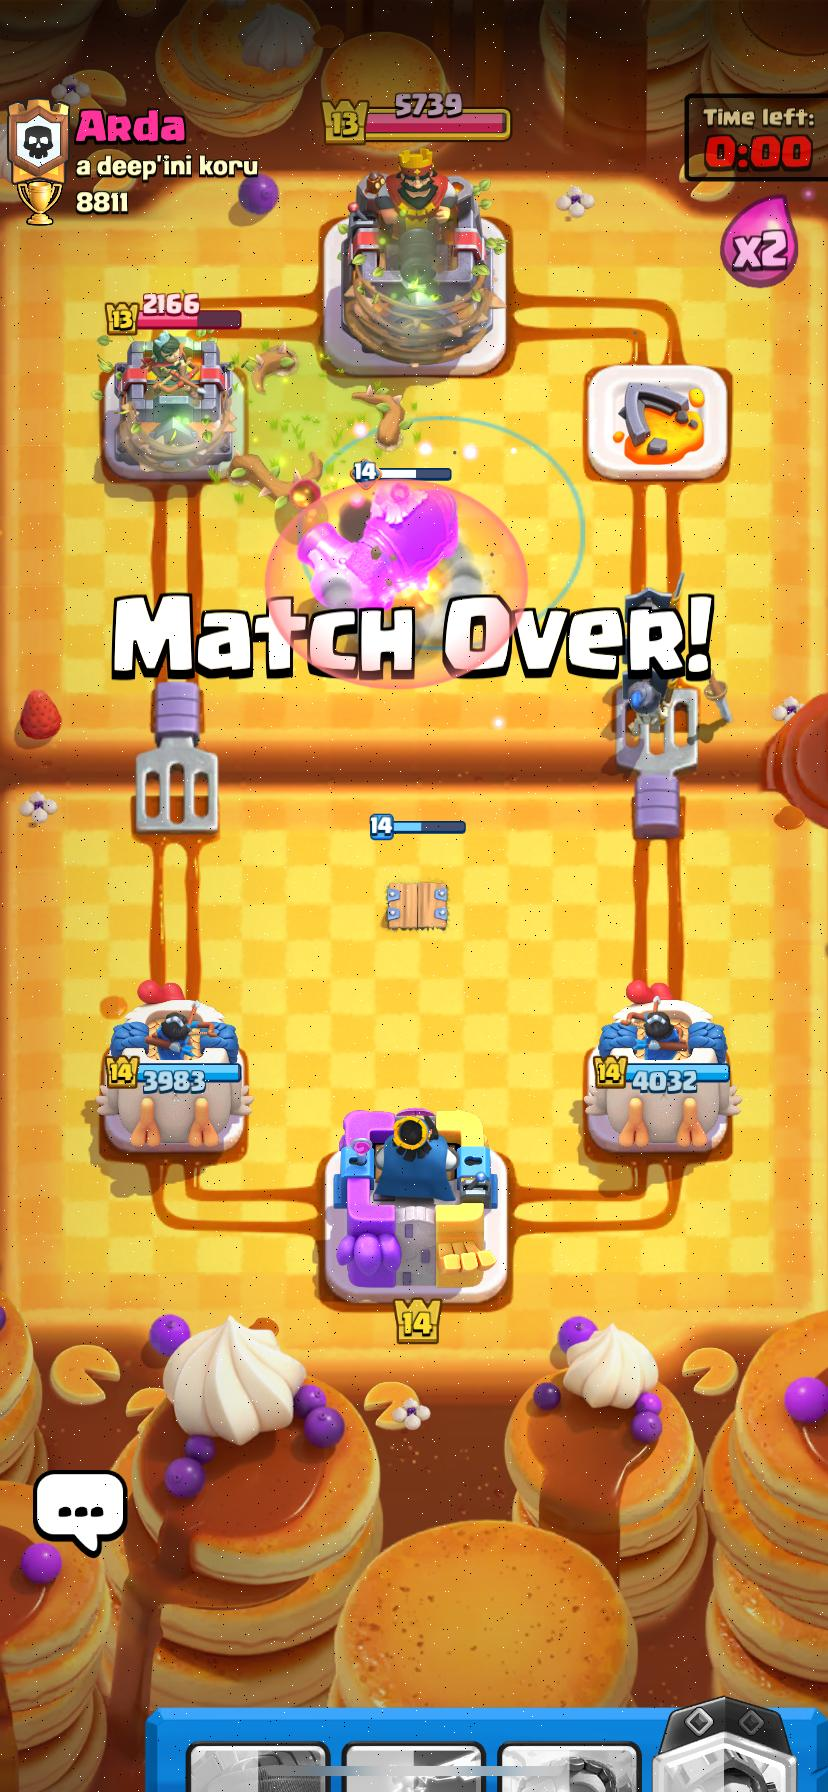EKingTower: (324, 149, 505, 374)
EnemyPrincessTower: (104, 331, 241, 480)
OEVRoyalG: (297, 481, 457, 606)
OGuard: (623, 674, 669, 741)
OTesla: (387, 883, 447, 930)
OwnKingTower: (324, 1109, 505, 1303)
OwnPrincessTower: (584, 982, 740, 1154), (97, 999, 250, 1151)
TowerDown: (584, 362, 730, 482)
